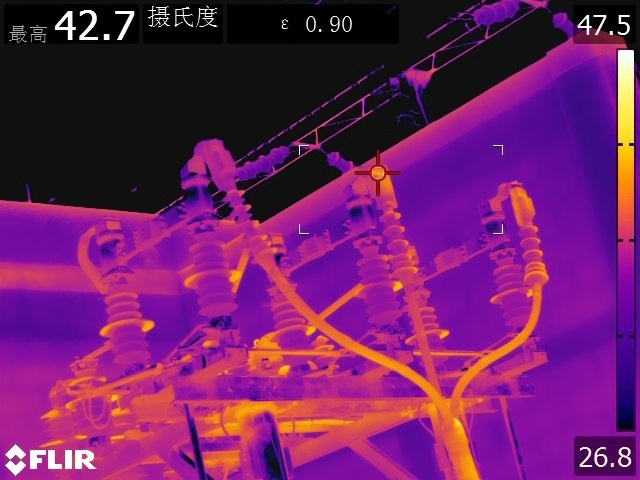insulator: (234, 141, 290, 183), (463, 1, 520, 28), (548, 9, 579, 40), (324, 150, 354, 175)
post insulator: (182, 229, 242, 326), (99, 274, 161, 362), (353, 240, 402, 332), (269, 278, 315, 354), (396, 274, 443, 340), (43, 406, 84, 480), (489, 261, 530, 334)
switch: (94, 180, 219, 273), (265, 204, 390, 283), (419, 217, 513, 284)
tube: (223, 187, 278, 267), (374, 214, 422, 277), (513, 219, 551, 291)
